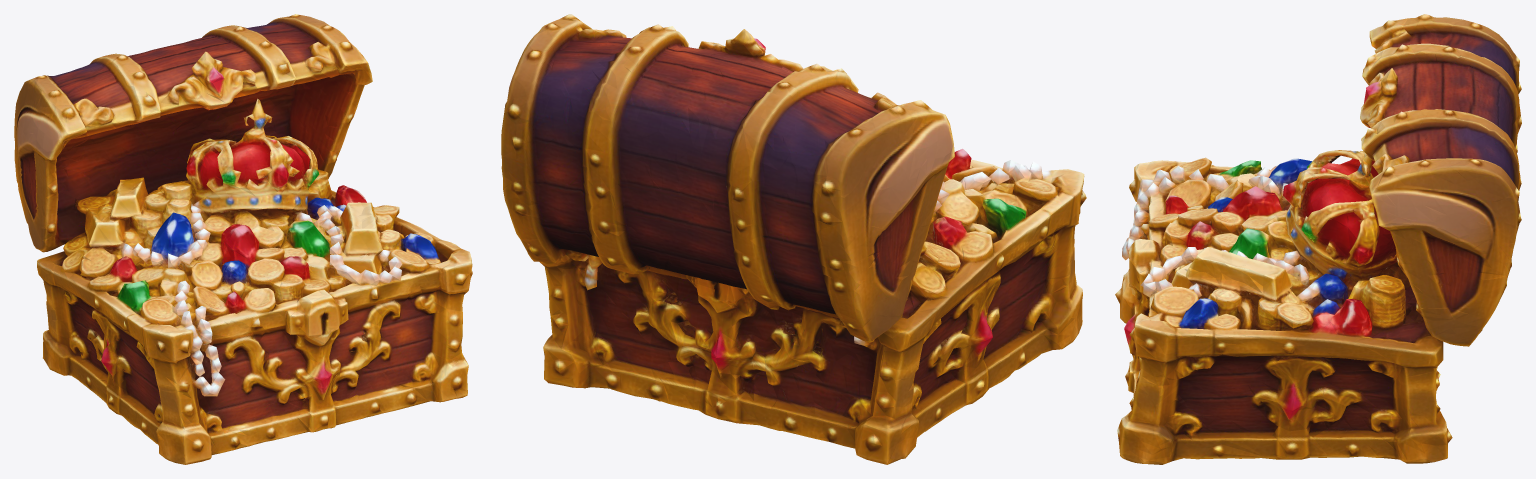
File: chest_medium.glb
The picture shows the model from 3 angles, left to right: view 1: azimuth 30°, elevation 25°; view 2: azimuth 150°, elevation 25°; view 3: azimuth 270°, elevation 25°; orthographic projection. The views are drawn at different scales.
Size of the model in its own units: 1 by 0.8745 by 0.9934.
Materials: 1 (1 with a texture image).
